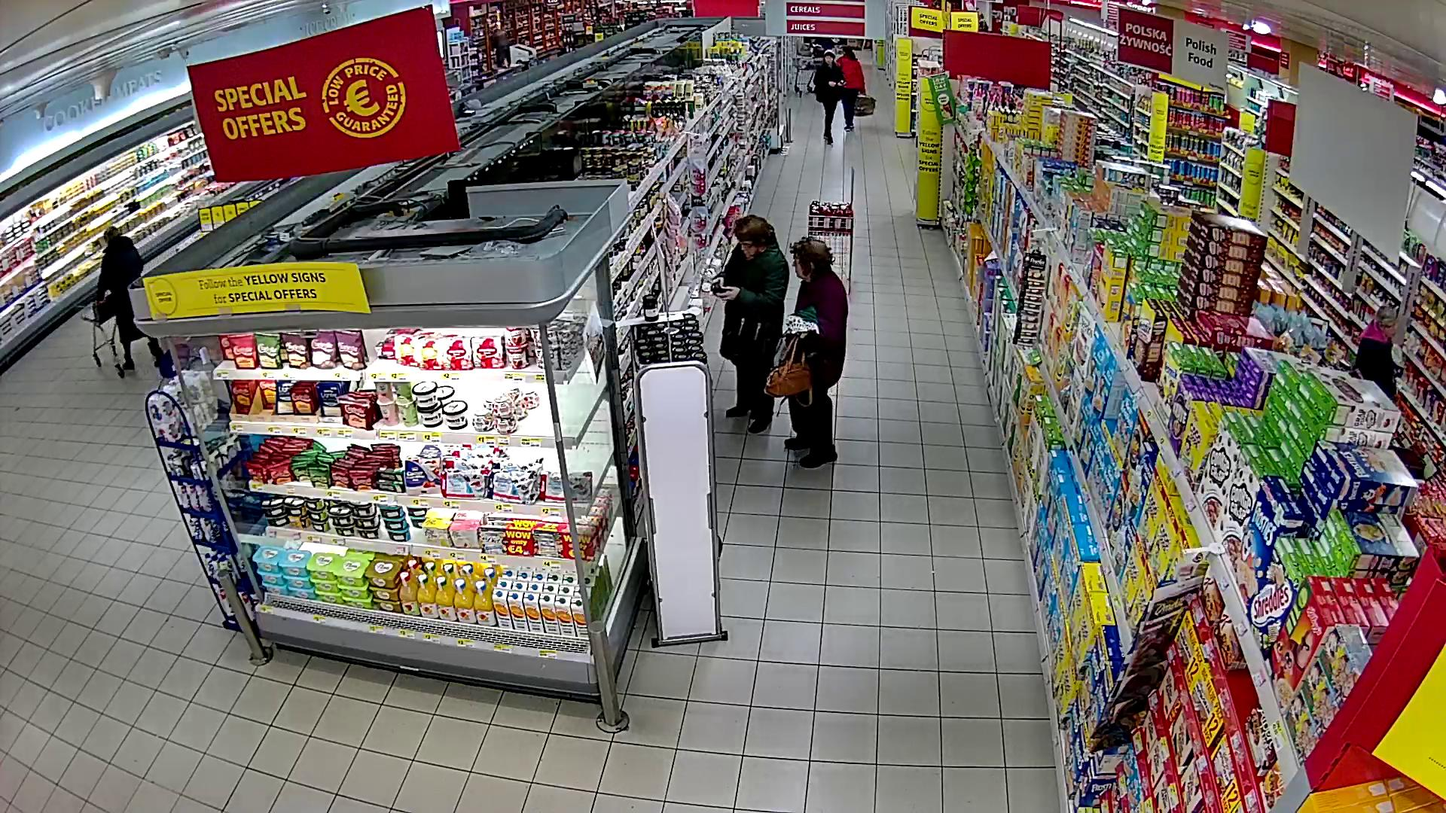backpack-or-handbag: (763, 360, 813, 401)
person: (784, 236, 849, 470)
person-with-backpack-handbag: (764, 236, 848, 469)
